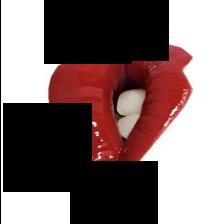red: (48, 41, 183, 171)
